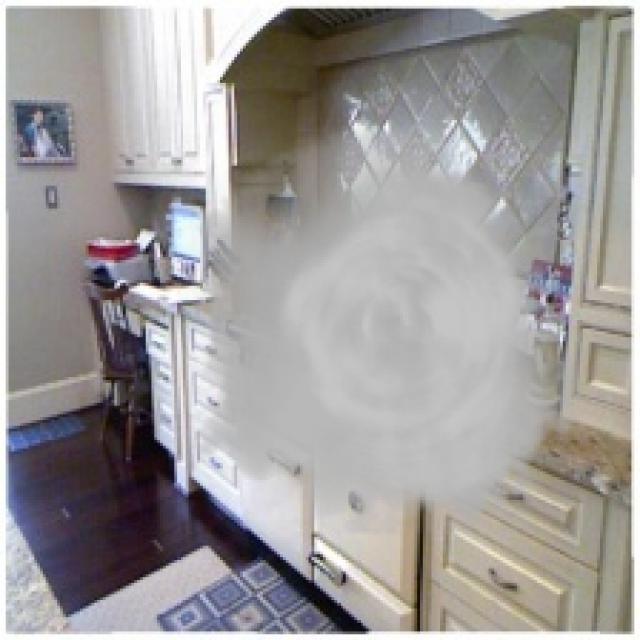Smoke: (177, 126, 594, 534)
